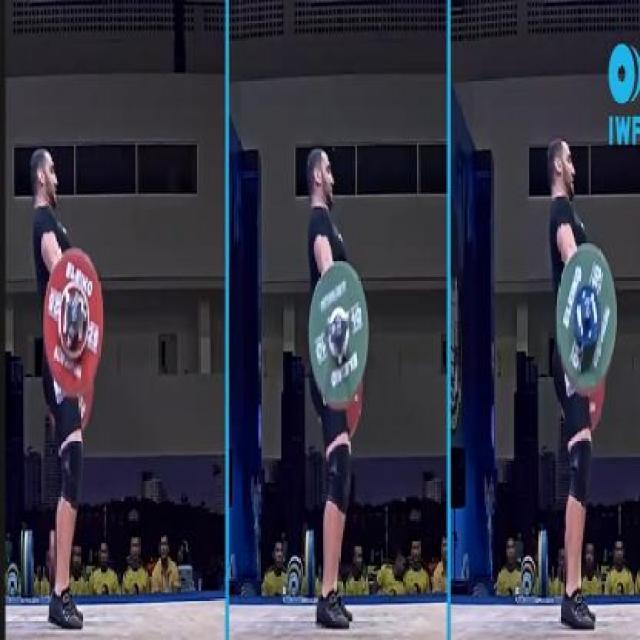Barbell: (580, 285, 594, 327), (330, 312, 346, 346), (68, 299, 82, 332)
